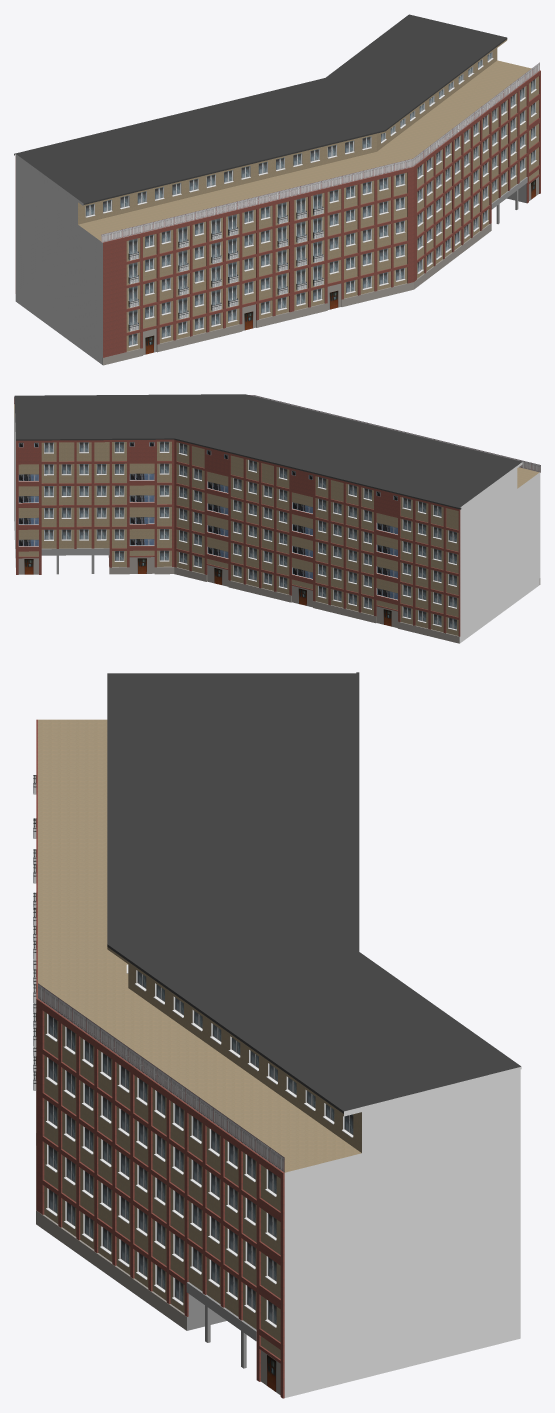
File: center.glb
3 renders of one model, top to bottom at view 1: azimuth 30°, elevation 25°; view 2: azimuth 150°, elevation 25°; view 3: azimuth 270°, elevation 25°, orthographic. The views are drawn at different scales.
Parts seen in each view (by area): view 1: _(Loose Entity); view 2: _(Loose Entity); view 3: _(Loose Entity).
Boxes of the visible parts, x1,y1,x2,y2 form: _(Loose Entity): (14,14,540,365); _(Loose Entity): (14,394,540,643); _(Loose Entity): (36,672,521,1398).
Bounding box in the file's own units: 35.79 × 9.98 × 16.25.
12 materials, 7 textured.
